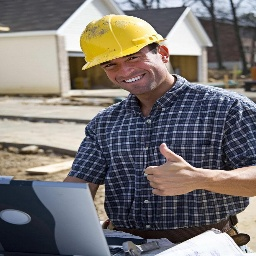helmet: (75, 14, 171, 73)
no-vest: (90, 103, 253, 227)
person: (65, 14, 256, 242)
